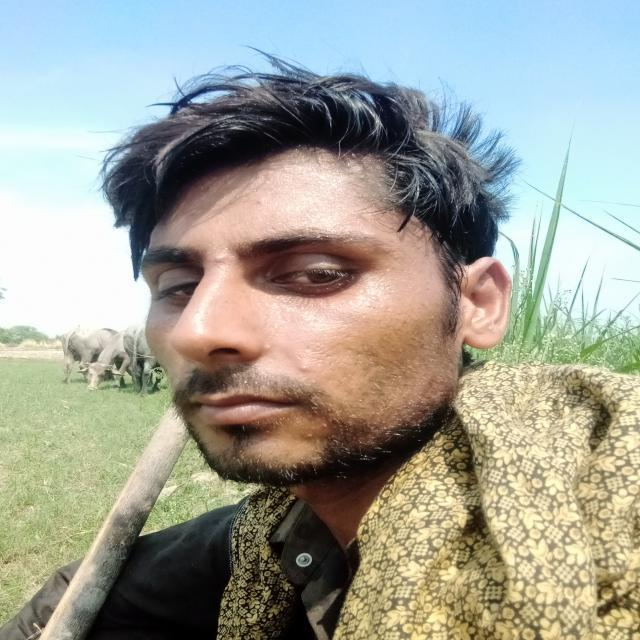Acne: (284, 346, 320, 374), (293, 424, 325, 446), (204, 252, 238, 272), (247, 186, 273, 212)
